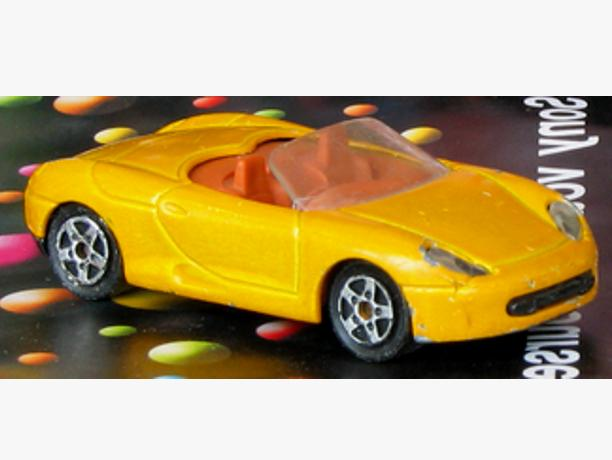toy-car: (22, 111, 600, 365)
